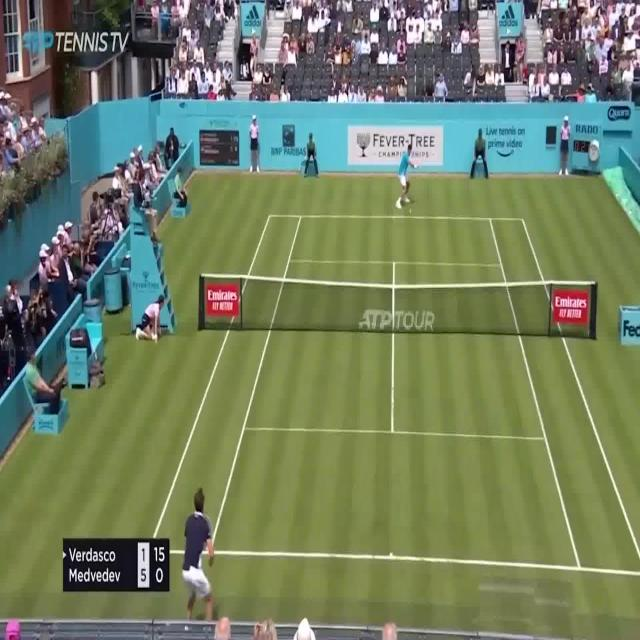bottom-dead-zone: (207, 426, 581, 571)
court: (146, 215, 640, 574)
left-doubles-alley: (147, 216, 301, 555)
left-service-box: (242, 260, 394, 432)
net: (197, 272, 600, 344)
right-doubles-alley: (490, 219, 640, 575)
right-service-box: (391, 262, 547, 441)
top-dead-zone: (288, 217, 502, 266)
